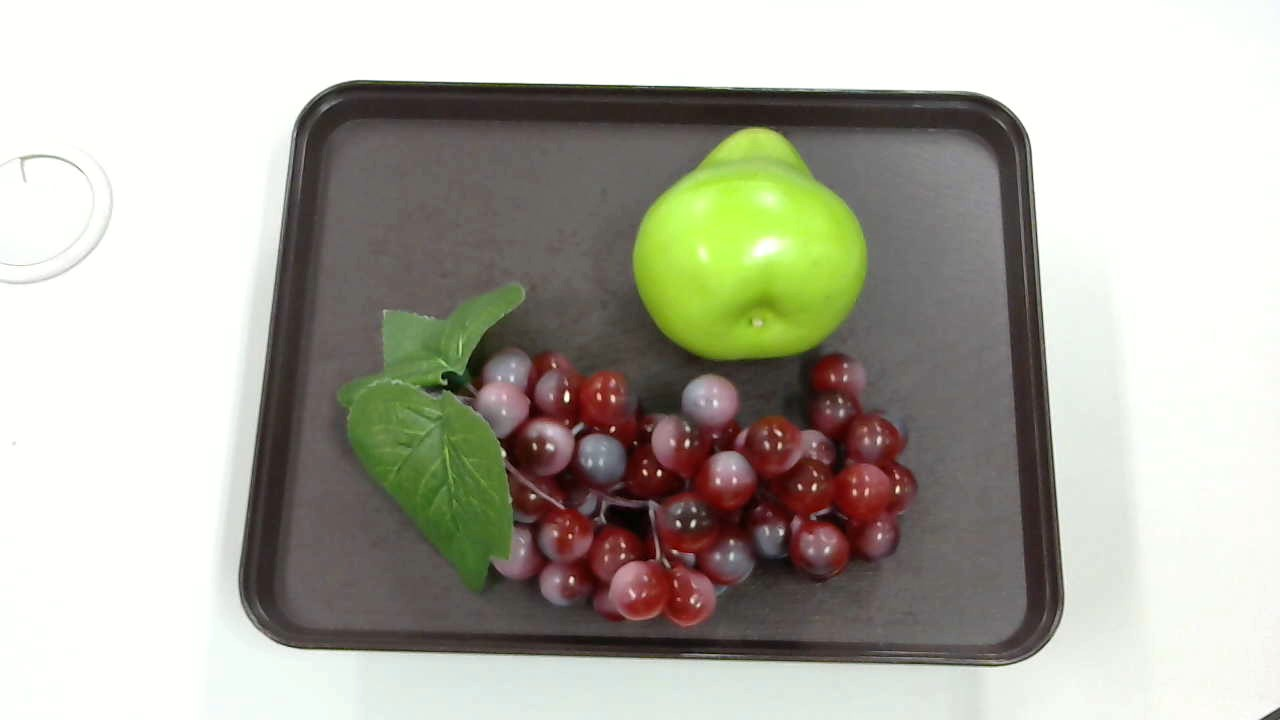grape: (327, 276, 920, 625)
green pear: (624, 124, 868, 361)
